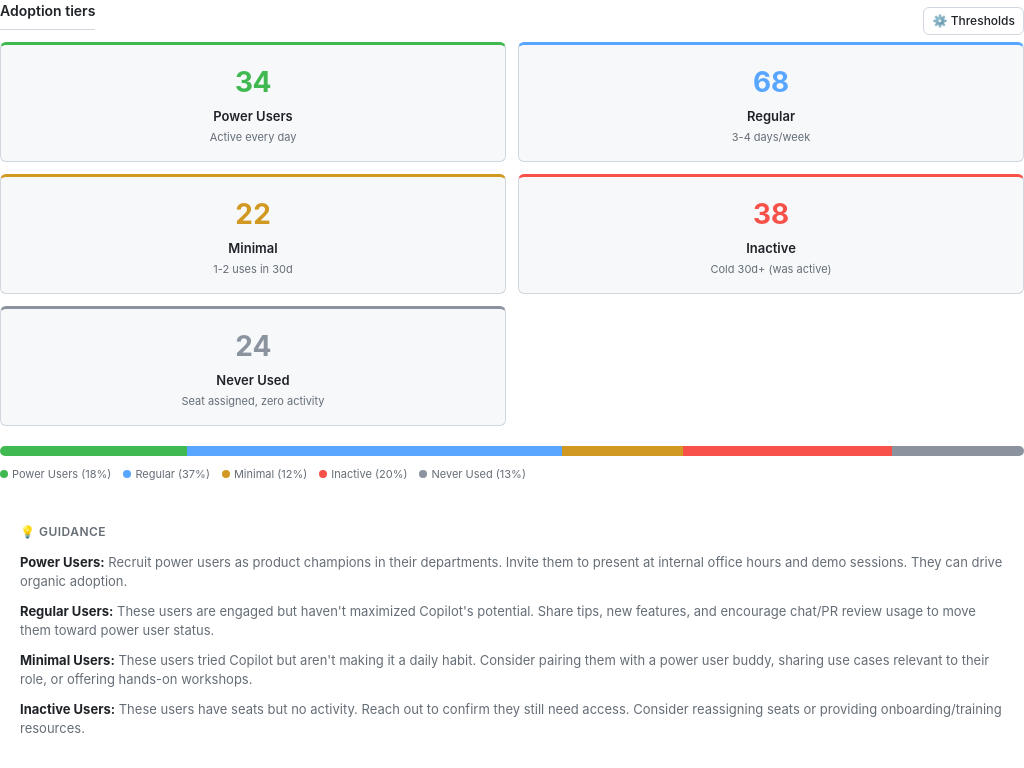
Test case: AdoptionPane › opens tier threshold settings modal
This screenshot has width=1024, height=768.
Expected: the text "Power Users" is shown, x1=213 y1=108 x2=293 y2=124
Click the button with aria-label "Tier threshold settings".
click(974, 21)  # box x1=924 y1=7 x2=1023 y2=35
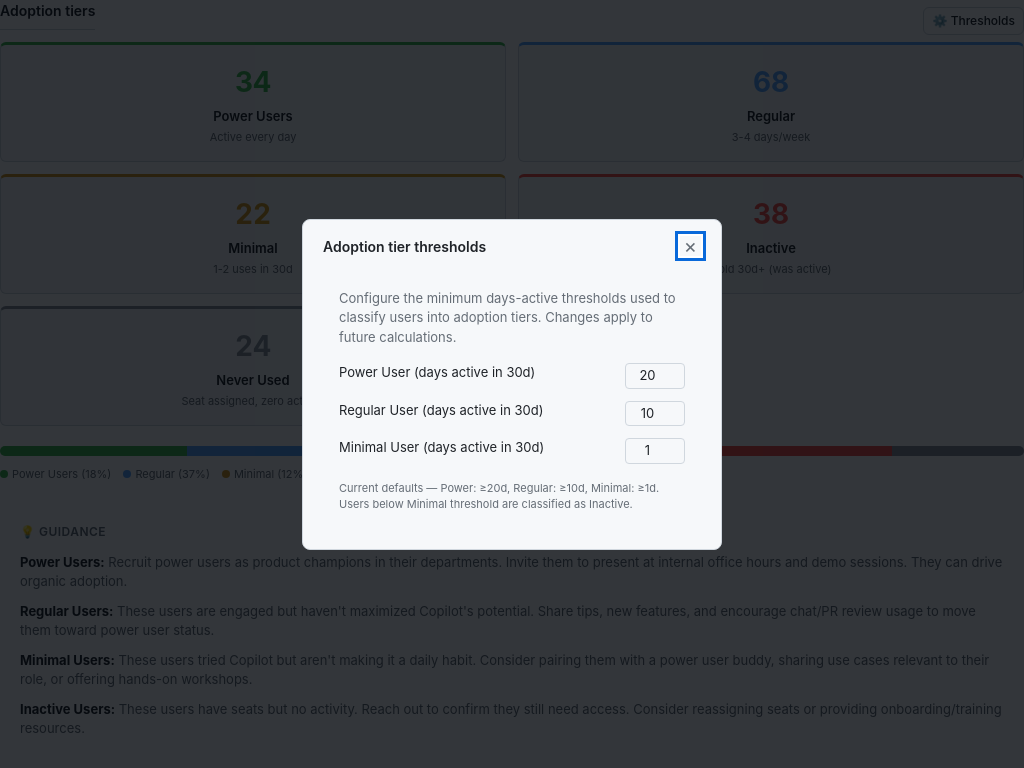
Now the text "Adoption tier thresholds" is shown, box x1=323 y1=236 x2=486 y2=256
Now the number field named "Power user threshold" is shown, box x1=625 y1=363 x2=685 y2=388
Now the number field named "Regular user threshold" is shown, box x1=625 y1=400 x2=685 y2=426
